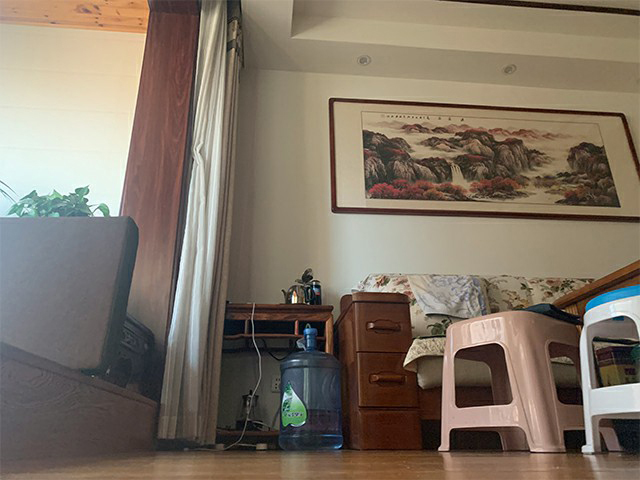curtain: (156, 1, 244, 444)
sofa: (334, 273, 592, 451)
stool: (436, 308, 625, 454), (581, 285, 640, 456)
table: (218, 302, 335, 451)
wire: (186, 304, 274, 454)
